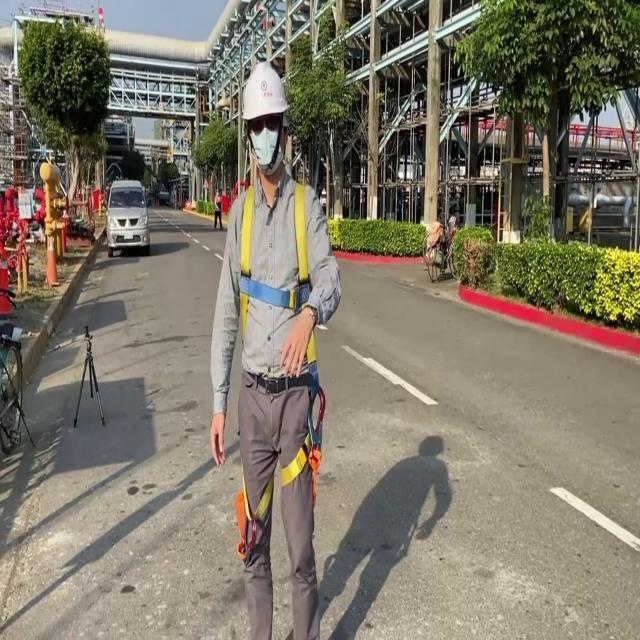Harness: (236, 342, 327, 565), (239, 183, 312, 330)
